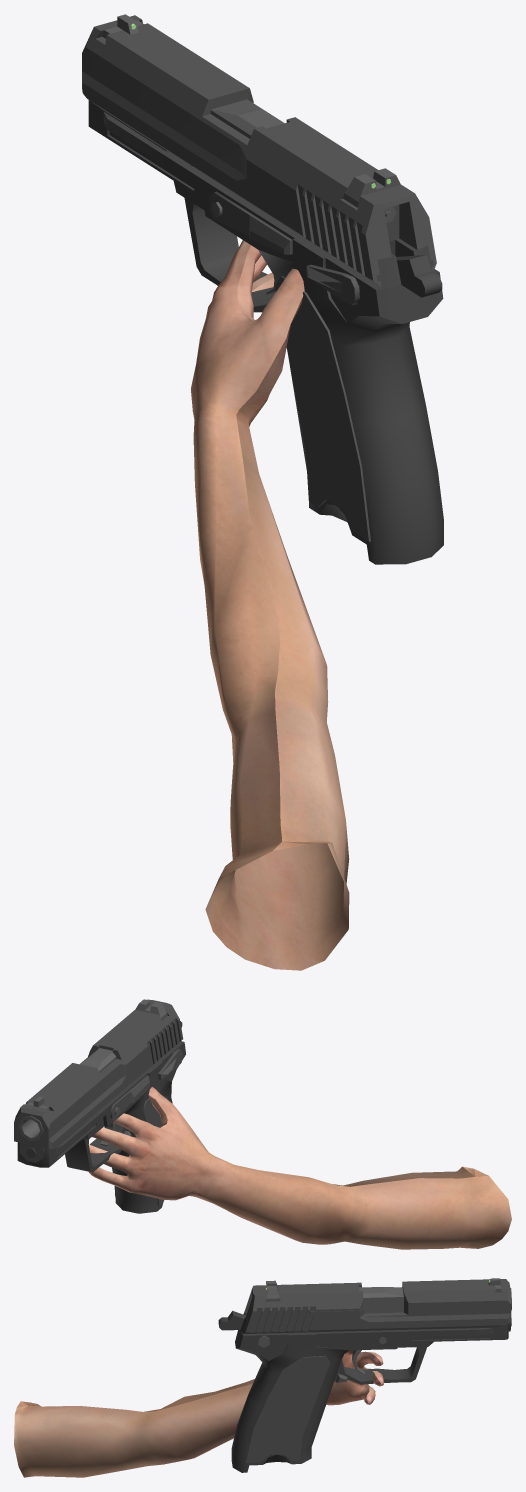
Rendered from usp.glb.
The picture shows the model from 3 angles, top to bottom: view 1: azimuth 30°, elevation 25°; view 2: azimuth 150°, elevation 25°; view 3: azimuth 270°, elevation 25°; orthographic projection. The views are drawn at different scales.
Visible parts, largest first — view 1: Object_15, object 6, object 5, object 7, object 4, object 8; view 2: Object_15, object 5, object 6, object 7, object 8; view 3: object 6, Object_15, object 5, object 4.
Boxes of the visible parts, x1=… form: Object_15: x1=191, y1=240, x2=349, y2=970; object 6: x1=88, y1=99, x2=443, y2=564; object 5: x1=82, y1=14, x2=436, y2=287; object 7: x1=209, y1=191, x2=292, y2=254; object 4: x1=396, y1=255, x2=442, y2=297; object 8: x1=306, y1=264, x2=359, y2=305; Object_15: x1=89, y1=1087, x2=511, y2=1249; object 5: x1=14, y1=999, x2=183, y2=1162; object 6: x1=17, y1=1041, x2=185, y2=1213; object 7: x1=110, y1=1075, x2=149, y2=1120; object 8: x1=158, y1=1049, x2=182, y2=1079; object 6: x1=231, y1=1287, x2=511, y2=1472; Object_15: x1=14, y1=1350, x2=383, y2=1477; object 5: x1=243, y1=1278, x2=511, y2=1333; object 4: x1=218, y1=1310, x2=245, y2=1330.
Bounding box in the file's own units: 0.7965 × 0.9142 × 1.53.
Materials: 3 (2 with a texture image).
